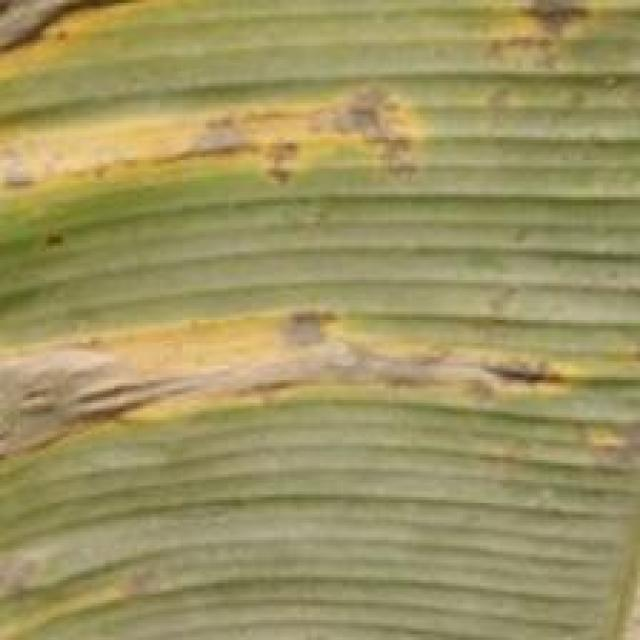Downey_mildrew: (0, 281, 640, 640), (0, 0, 620, 205), (26, 211, 82, 269)
